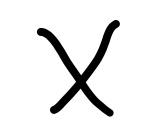mult: (36, 21, 120, 116)
